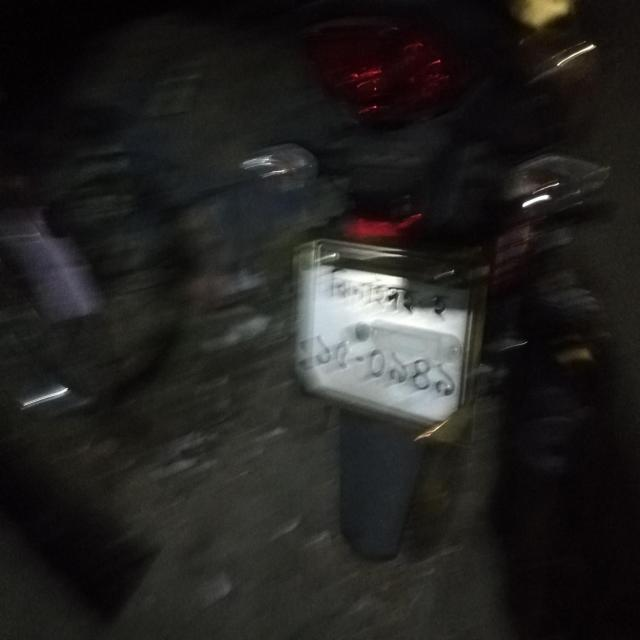numberplate: (290, 236, 488, 431)
